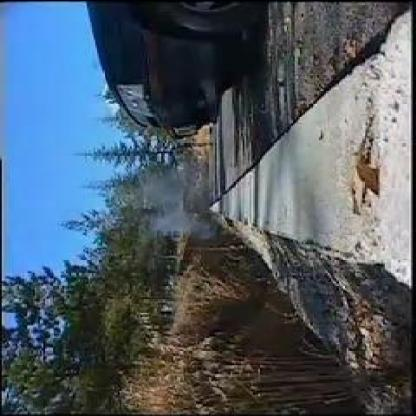-: (150, 187, 221, 237)
